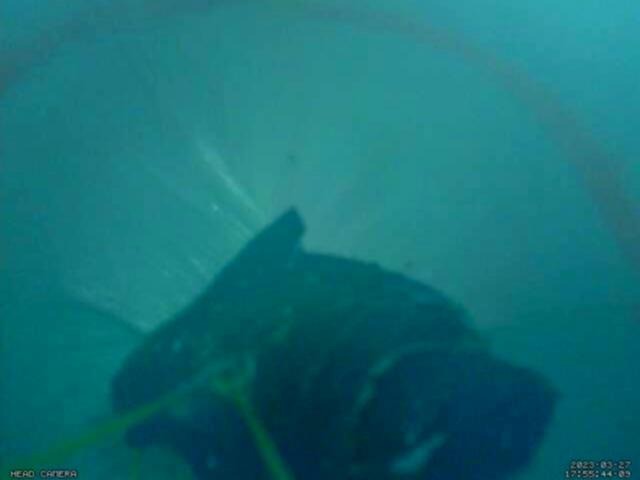head: (1, 1, 640, 263)
